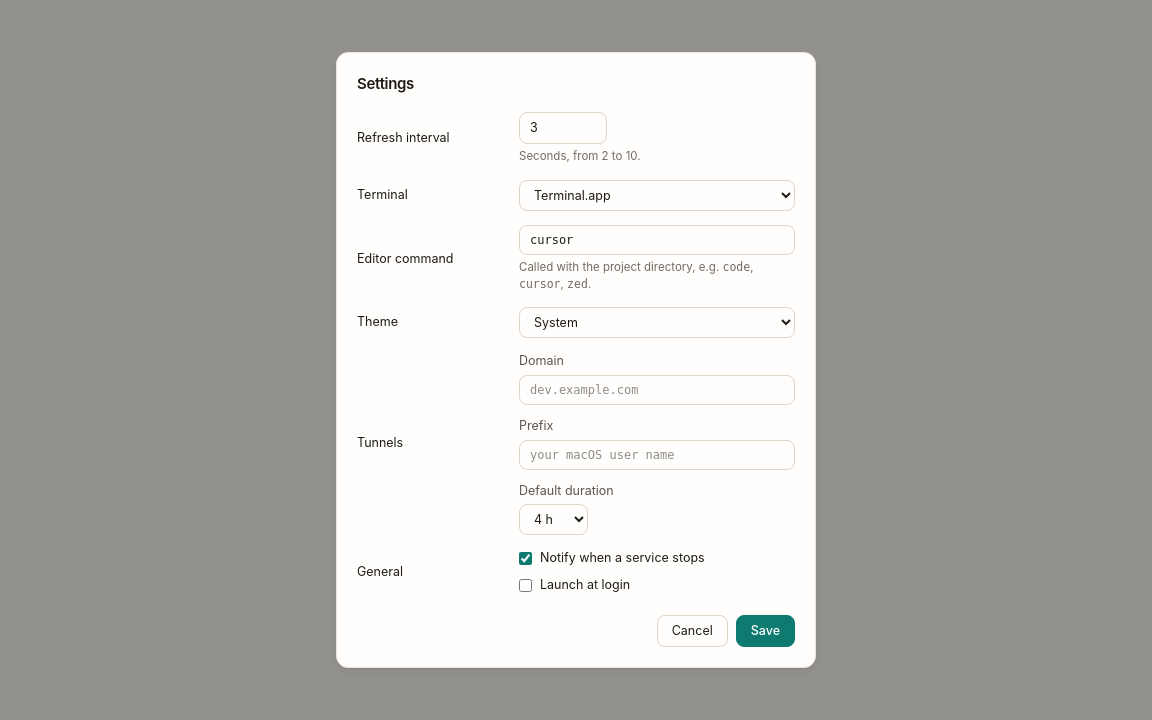
Test case: SettingsDialog › requires {cmd} in a custom terminal command
Select "Custom command" in the dropdown named "terminal" at (657, 195), box [519,180,795,211]
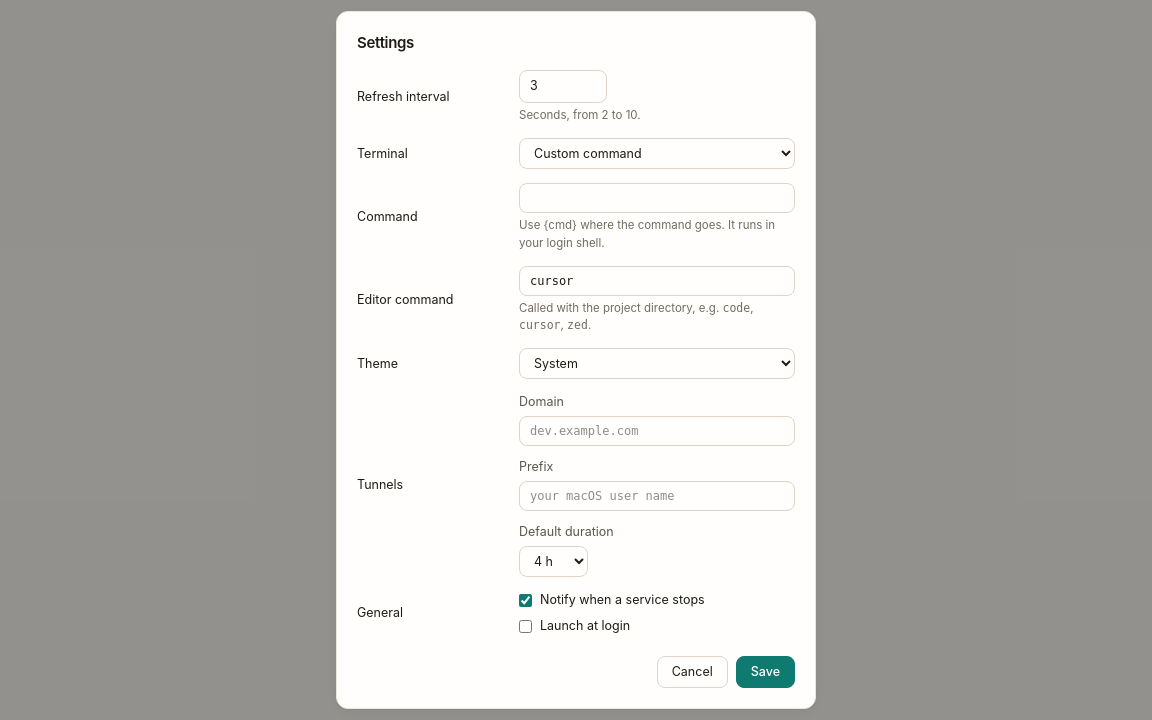
Type "ghostty -e" into the field named "custom" at (657, 198), box [519,183,795,213]
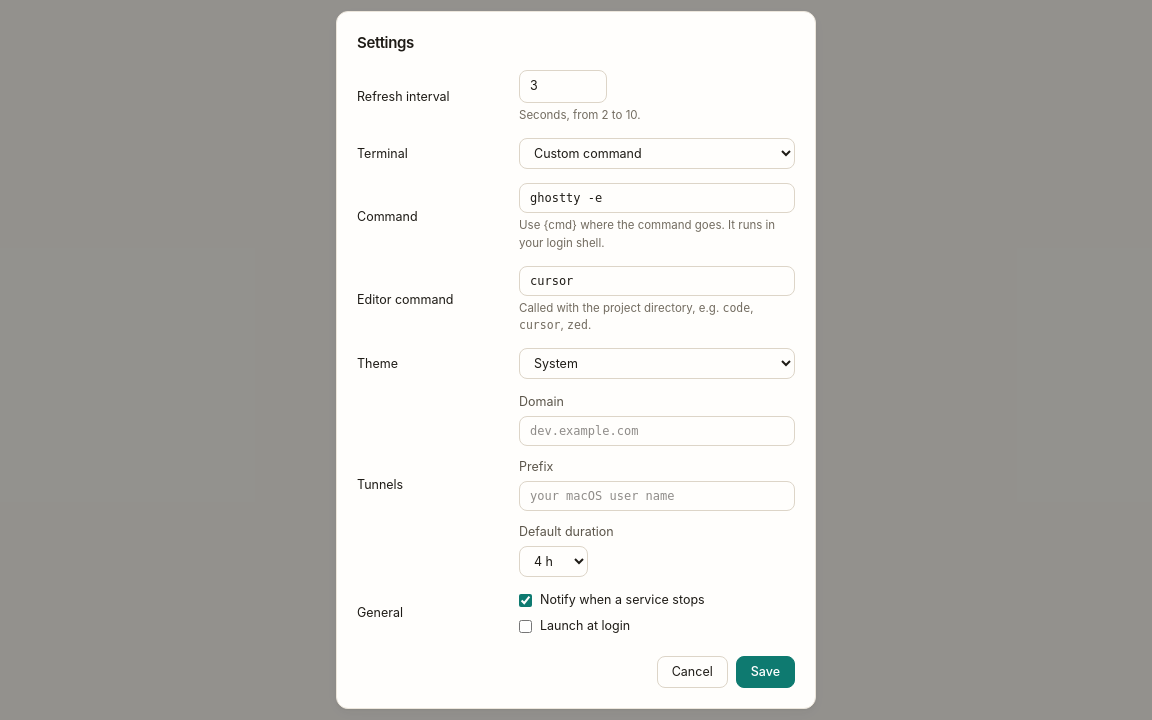
Submit the dialog, box [336,11,816,709]
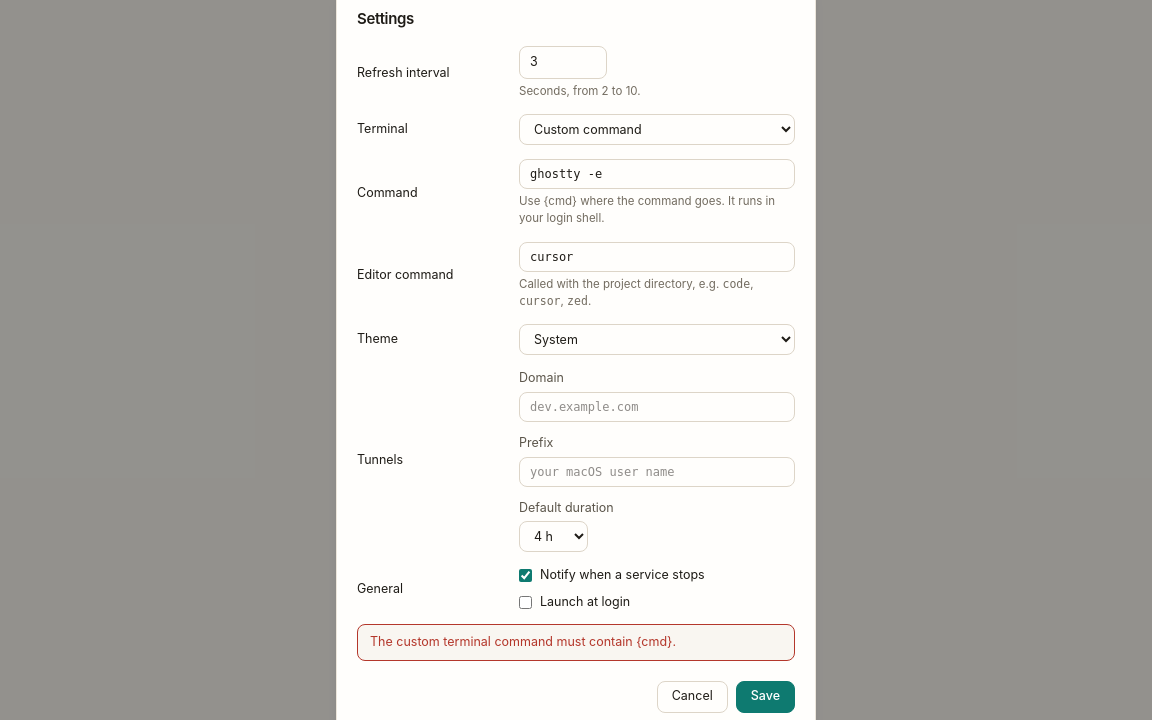
Now the text "must contain {cmd}" is shown, box [370,634,676,649]
